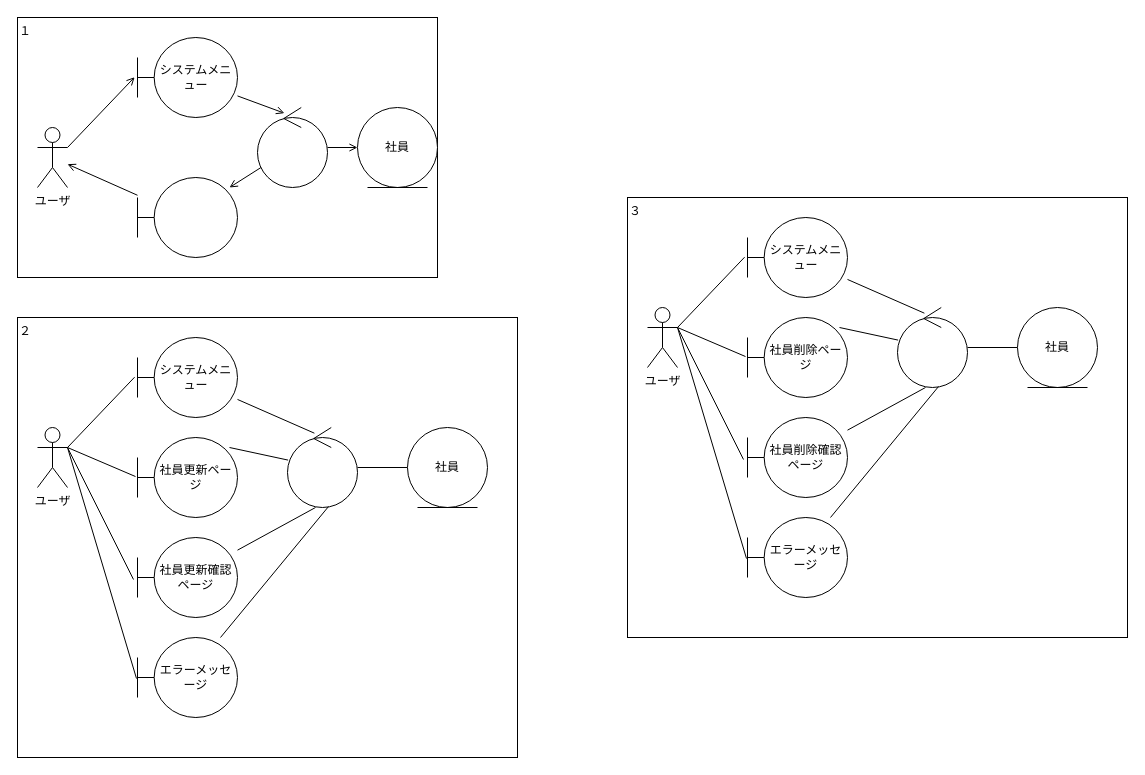
The diagram is 1145 pixels wide and 775 high, and some of its shapes have lost their labels. Each missing label, with the box of its shape:
一覧表示: (136, 176, 238, 258)
情報削除: (896, 306, 968, 388)
情報更新: (286, 426, 358, 508)
情報管理: (256, 106, 328, 188)
